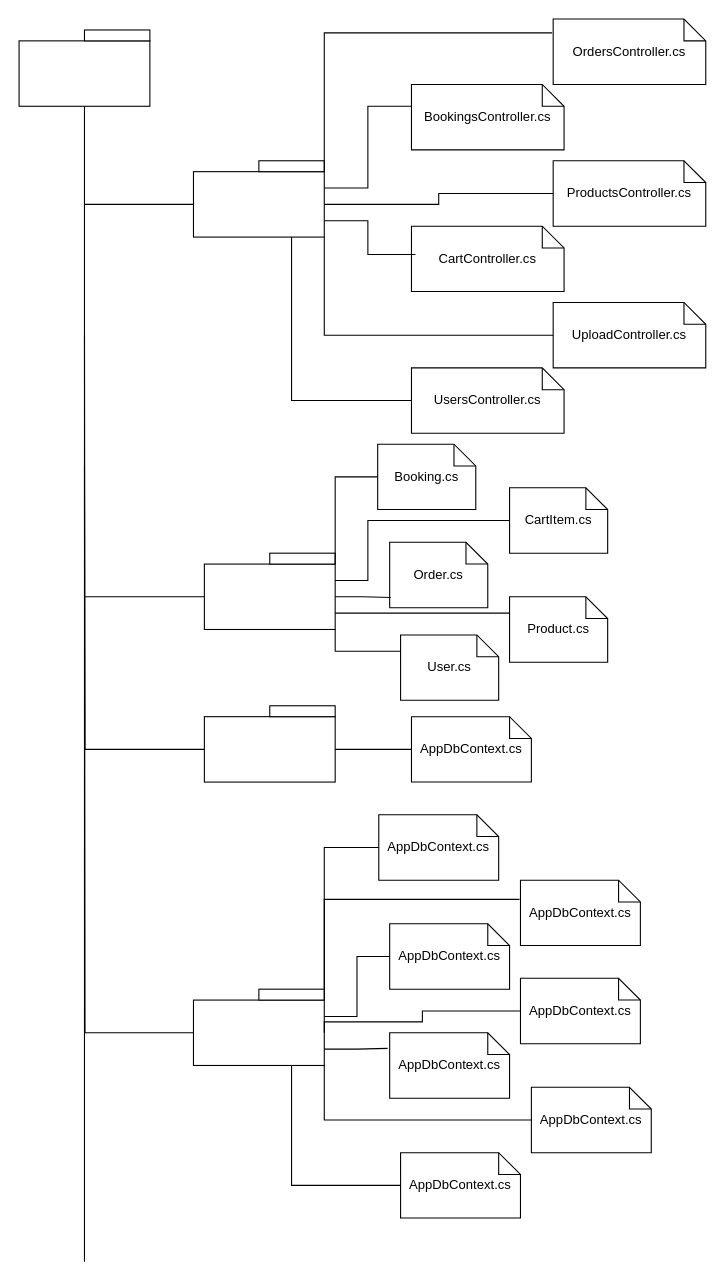
Some shapes in this 725 by 1282 pixel diagram are drawn without their labels. Here are the shapes that lost their labels. From the top down, the centre of each, then its label:
the point at 84,73: CafeApi
the point at 258,204: Controllers
the point at 269,596: Models
the point at 269,749: Data
the point at 258,1032: Dtos
